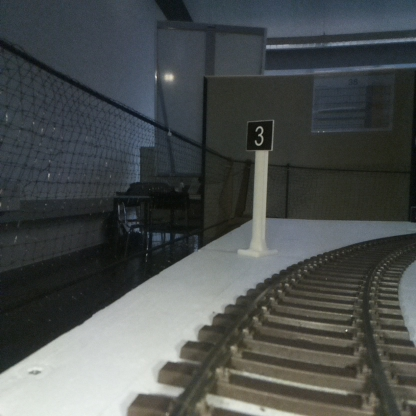black-info-3: (246, 120, 273, 252)
